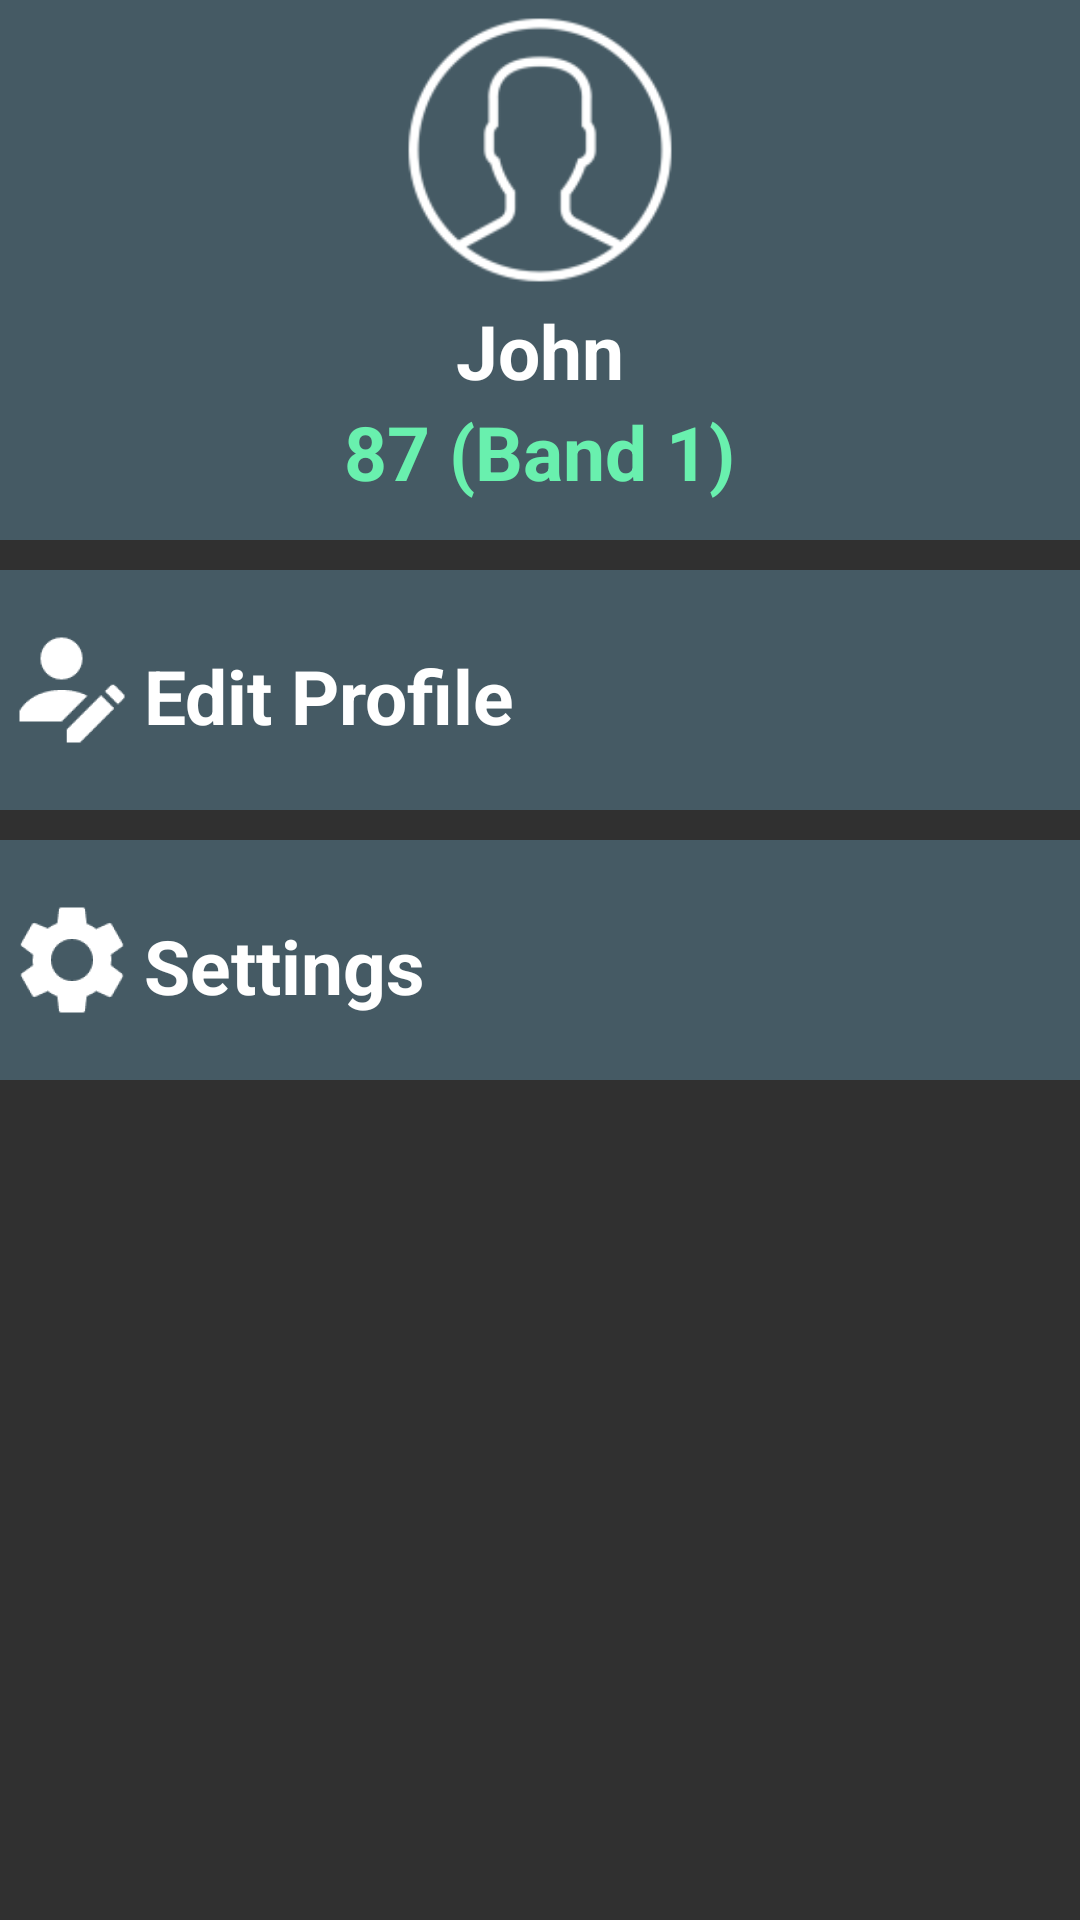

Icon click points for this 1080w x 1920h phone screenshot, format [x,y]:
edit user profile: [72,690]
user profile: [540,150]
